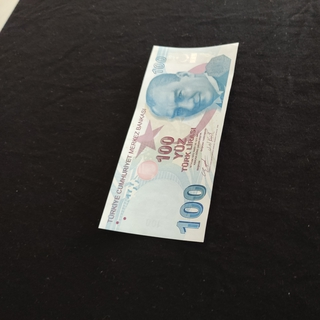100TLFront: (98, 41, 240, 243)
